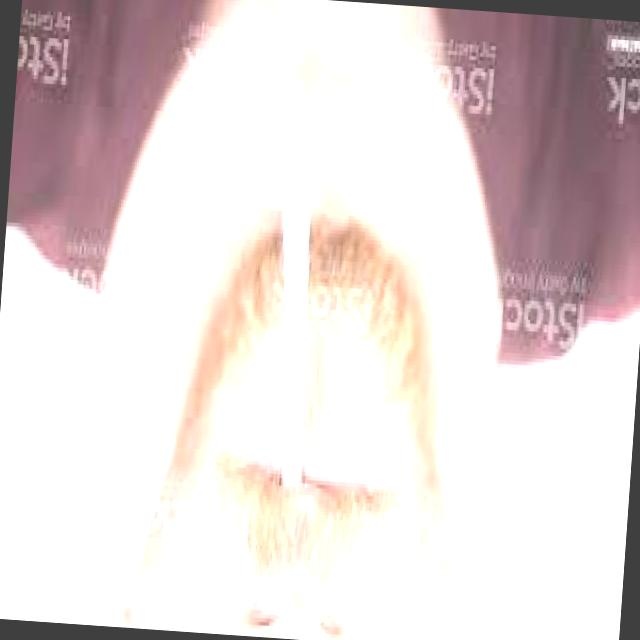smoke: (259, 89, 334, 498)
